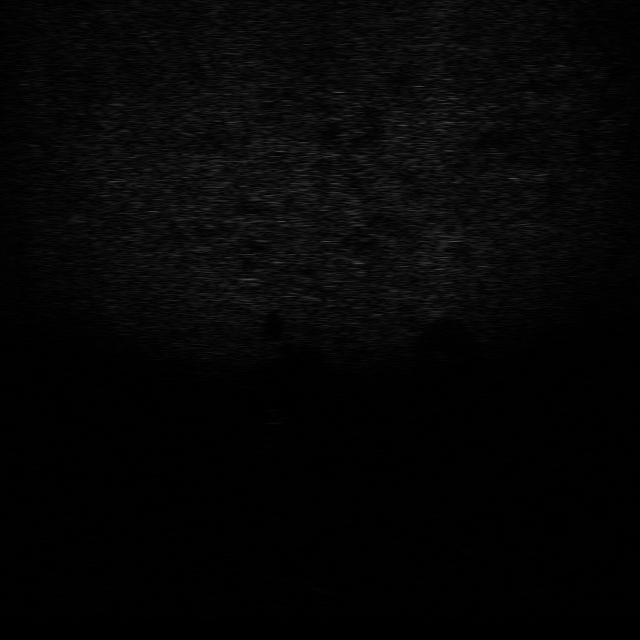ball: (255, 408, 290, 426)
metal bucket: (275, 568, 339, 600)
tyre: (428, 520, 483, 564)
